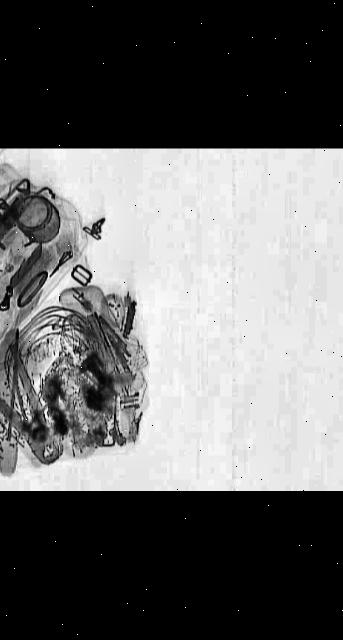Pliers: (0, 345, 85, 470)
